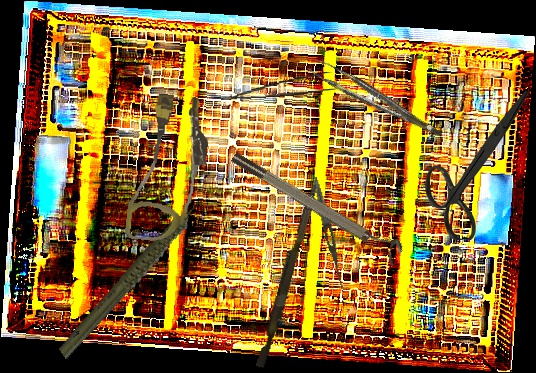Cannula: (124, 91, 213, 246)
Dressing Forceps: (311, 178, 348, 291)
Fixation Ring: (229, 142, 406, 267)
Handpiece: (32, 192, 241, 362)
Iris Scissors: (424, 91, 532, 240)
Pusher: (255, 174, 321, 370)
Tissue Forceps: (306, 50, 443, 152), (221, 71, 338, 101)
